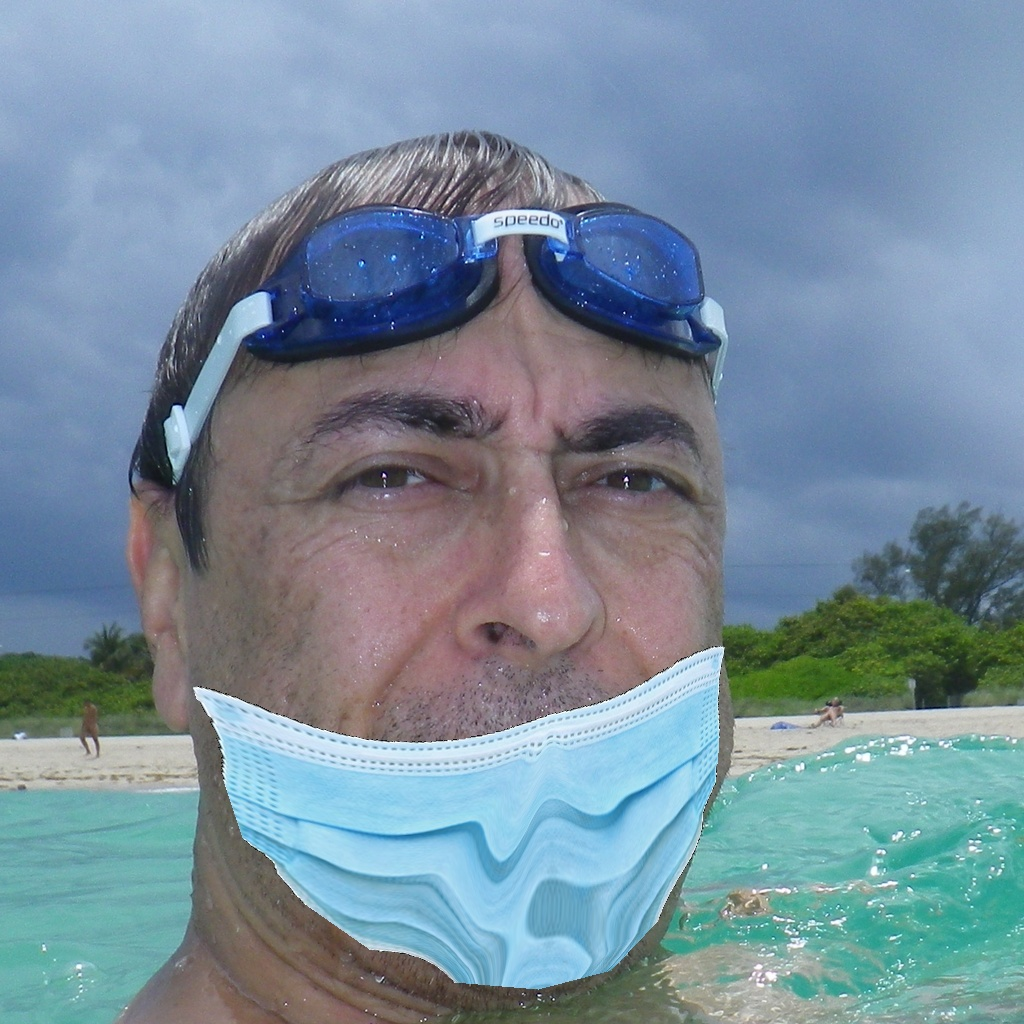mascarilla_mal_puesta: (142, 378, 837, 1018)
